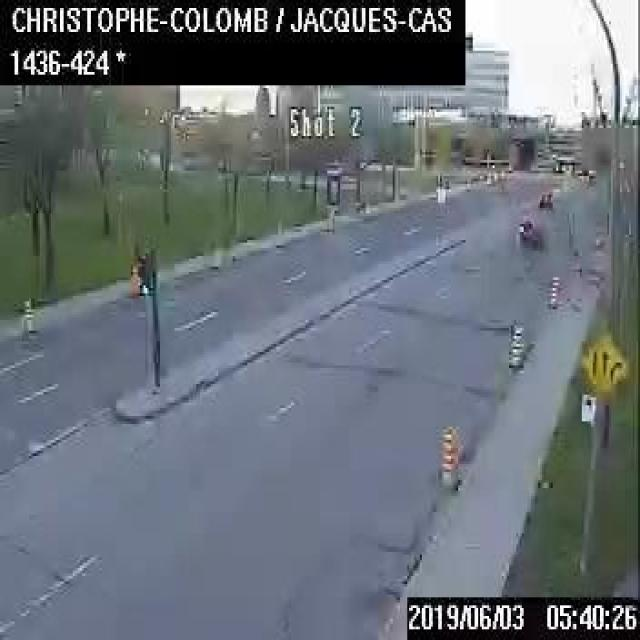construction: (438, 424, 456, 485), (506, 315, 524, 368), (545, 269, 560, 304), (129, 262, 140, 296), (23, 296, 32, 328), (274, 214, 284, 242), (325, 204, 333, 231)
vehicle: (515, 214, 543, 248), (538, 190, 552, 208)
